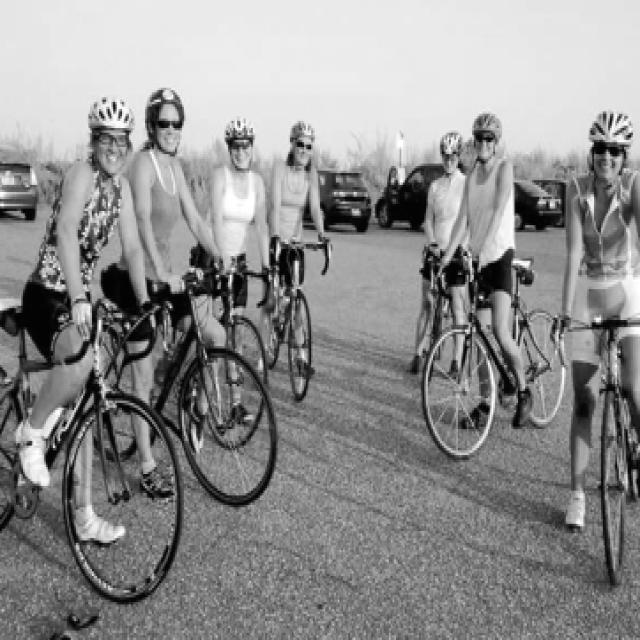Helmet: (585, 99, 635, 185), (140, 78, 190, 156), (281, 109, 324, 173), (467, 106, 504, 164)
